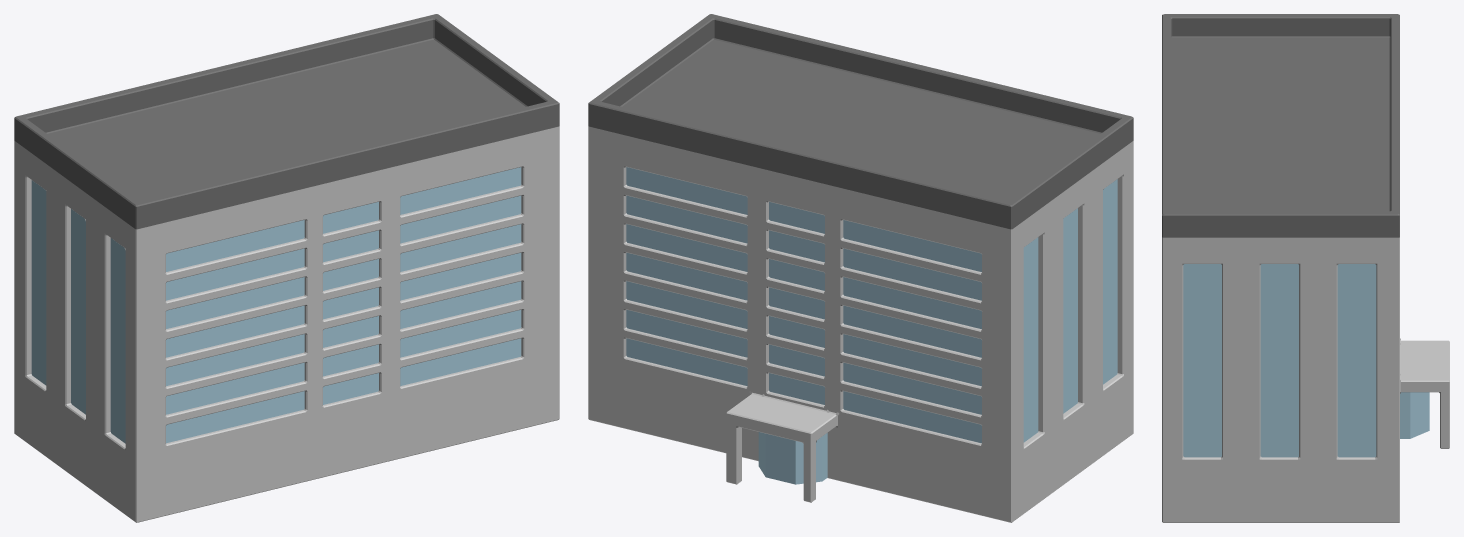
The model's file is Building_016.fbx.
The picture shows the model from 3 angles, left to right: view 1: azimuth 30°, elevation 25°; view 2: azimuth 150°, elevation 25°; view 3: azimuth 270°, elevation 25°; orthographic projection. The views are drawn at different scales.
Visible parts, largest first — view 1: Building_016; view 2: Building_016; view 3: Building_016.
Boxes of the visible parts, x1,y1,x2,y2 form: Building_016: [14, 14, 559, 522]; Building_016: [588, 14, 1133, 522]; Building_016: [1162, 14, 1449, 522].
Size of the model in its own units: 3820 by 2763 by 2309.
